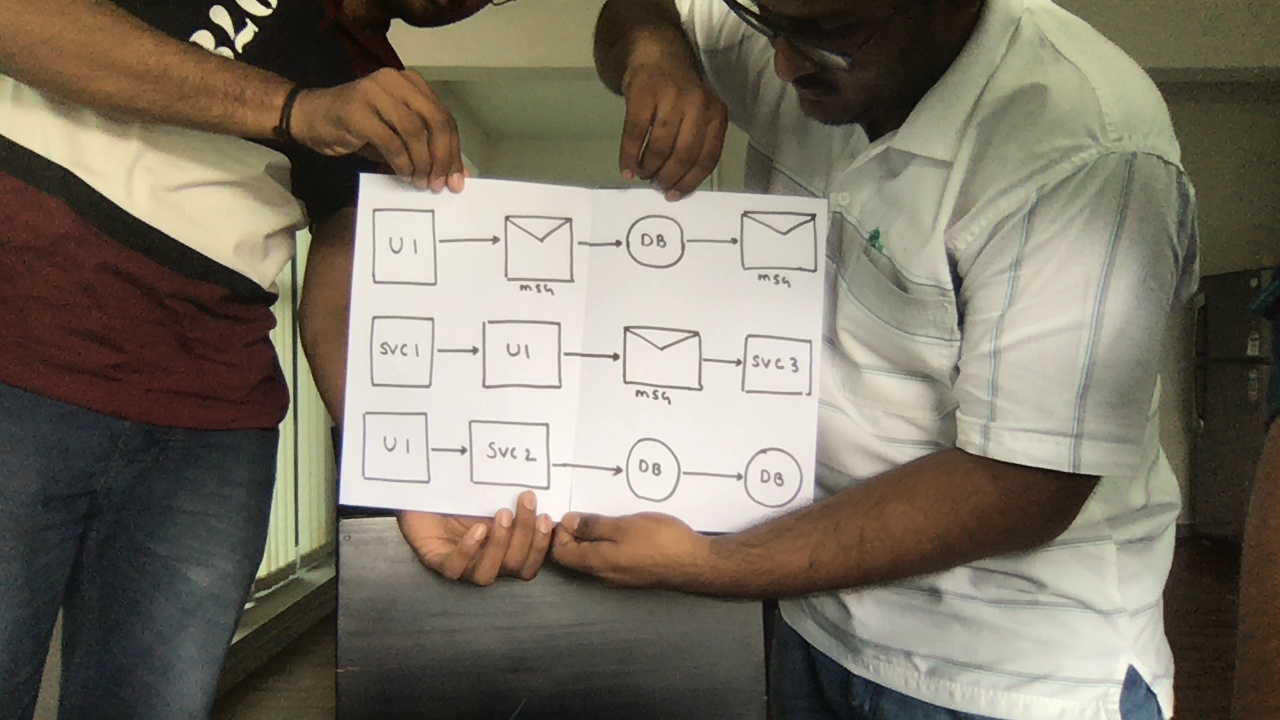arrow: (552, 449, 625, 487), (437, 227, 506, 258), (561, 338, 622, 373), (681, 461, 746, 491), (574, 228, 629, 258), (430, 337, 484, 367), (687, 229, 747, 255), (699, 347, 750, 376), (429, 439, 475, 466)
db: (617, 434, 684, 505), (739, 442, 806, 513), (622, 212, 689, 272)
ec2: (467, 414, 555, 498), (739, 330, 816, 403)
sns: (620, 319, 709, 408), (737, 208, 821, 290), (501, 211, 578, 295)
ui: (478, 318, 565, 395), (358, 409, 436, 490), (368, 205, 440, 288)
